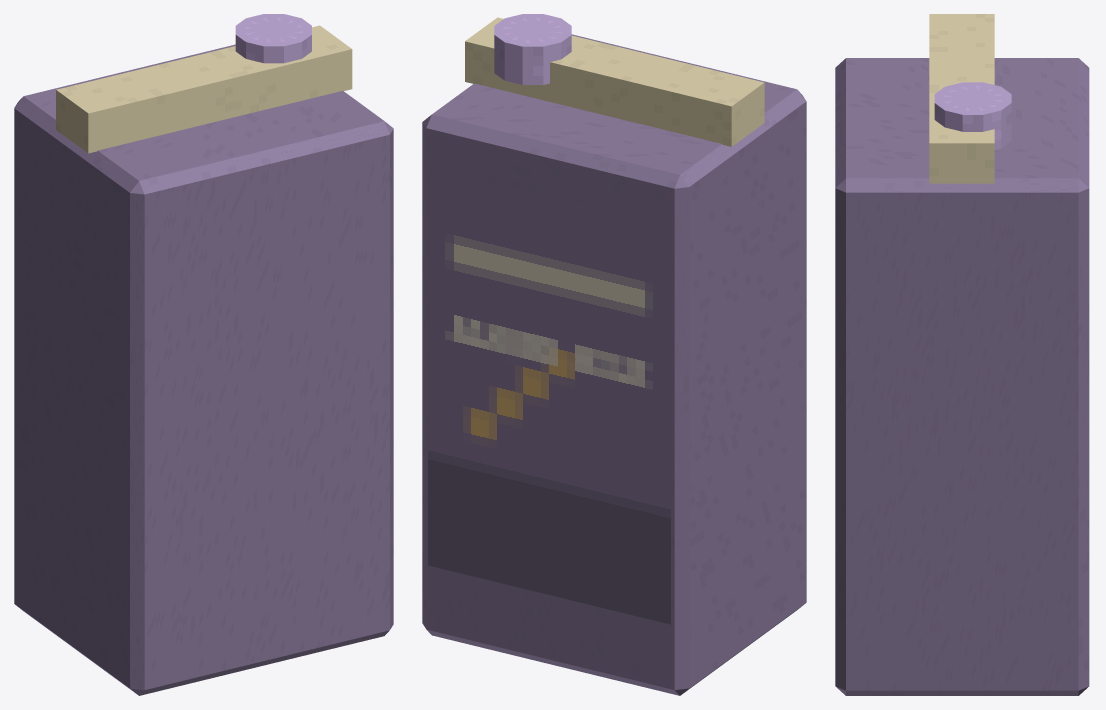
Rendered from almond_milk.glb.
3 renders of one model, left to right at view 1: azimuth 30°, elevation 25°; view 2: azimuth 150°, elevation 25°; view 3: azimuth 270°, elevation 25°, orthographic.
Parts seen in each view (by area): view 1: block_printed carton, block_folded carton seam, block_screw cap; view 2: block_printed carton, block_product illustration and wordmark, block_folded carton seam, block_screw cap; view 3: block_printed carton, block_folded carton seam, block_screw cap.
Part boxes in pixels (left/top/right/bottom): block_printed carton: left=14, top=44, right=393, bottom=695; block_folded carton seam: left=56, top=25, right=352, bottom=153; block_screw cap: left=235, top=14, right=311, bottom=63; block_printed carton: left=422, top=34, right=806, bottom=695; block_product illustration and wordmark: left=428, top=167, right=670, bottom=624; block_folded carton seam: left=465, top=17, right=764, bottom=146; block_screw cap: left=494, top=14, right=571, bottom=84; block_printed carton: left=835, top=58, right=1089, bottom=695; block_folded carton seam: left=929, top=14, right=994, bottom=183; block_screw cap: left=934, top=82, right=1011, bottom=149.
Size of the model in its own units: 0.0582 by 0.1203 by 0.0487.
Materials: 1 (1 with a texture image).
